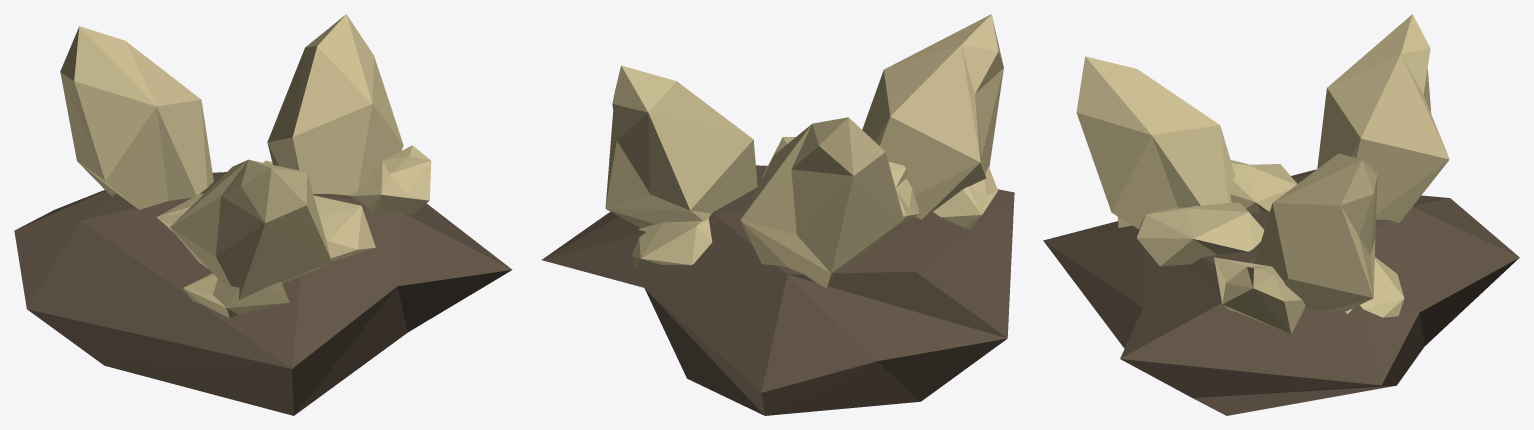
File: SFHW_Rocks_004.fbx
The picture shows the model from 3 angles, left to right: view 1: azimuth 30°, elevation 25°; view 2: azimuth 150°, elevation 25°; view 3: azimuth 270°, elevation 25°; orthographic projection. The views are drawn at different scales.
Parts seen in each view (by area): view 1: SFHW_Rocks_004; view 2: SFHW_Rocks_004; view 3: SFHW_Rocks_004.
Boxes of the visible parts, box(x1,y1,x2,y2) form: SFHW_Rocks_004: box(14, 14, 512, 415); SFHW_Rocks_004: box(542, 14, 1014, 415); SFHW_Rocks_004: box(1043, 14, 1519, 415).
Size of the model in its own units: 15.7 by 11.02 by 15.87.
